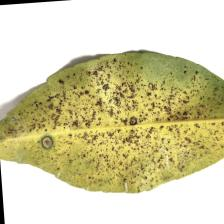canker: (29, 71, 202, 168)
